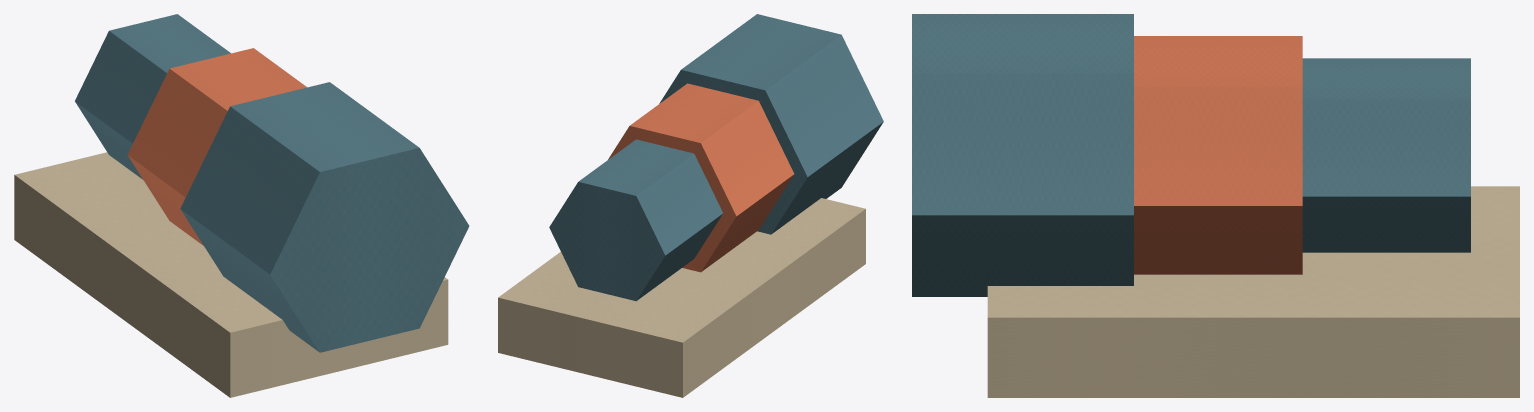
Rendered from atlas100-s049-a05.lod1.glb.
The picture shows the model from 3 angles, left to right: view 1: azimuth 30°, elevation 25°; view 2: azimuth 150°, elevation 25°; view 3: azimuth 270°, elevation 25°; orthographic projection. The views are drawn at different scales.
Visible parts, largest first — view 1: atlas100-s049-a05:part-002, atlas100-s049-a05:part-004, atlas100-s049-a05:part-001, atlas100-s049-a05:part-000; view 2: atlas100-s049-a05:part-004, atlas100-s049-a05:part-002, atlas100-s049-a05:part-000, atlas100-s049-a05:part-001; view 3: atlas100-s049-a05:part-004, atlas100-s049-a05:part-002, atlas100-s049-a05:part-001, atlas100-s049-a05:part-000.
Part boxes in pixels (x1,y1,x2,y2): atlas100-s049-a05:part-002: [180, 82, 469, 352]; atlas100-s049-a05:part-004: [14, 152, 448, 397]; atlas100-s049-a05:part-001: [127, 48, 306, 245]; atlas100-s049-a05:part-000: [75, 14, 230, 179]; atlas100-s049-a05:part-004: [498, 198, 865, 397]; atlas100-s049-a05:part-002: [659, 14, 883, 234]; atlas100-s049-a05:part-000: [549, 139, 723, 301]; atlas100-s049-a05:part-001: [608, 83, 794, 272]; atlas100-s049-a05:part-004: [987, 186, 1519, 397]; atlas100-s049-a05:part-002: [912, 14, 1133, 296]; atlas100-s049-a05:part-001: [1134, 36, 1302, 274]; atlas100-s049-a05:part-000: [1302, 58, 1470, 252].
Bounding box in the file's own units: 0.3822 × 0.3916 × 0.748.
Materials: 3 (3 with a texture image).
